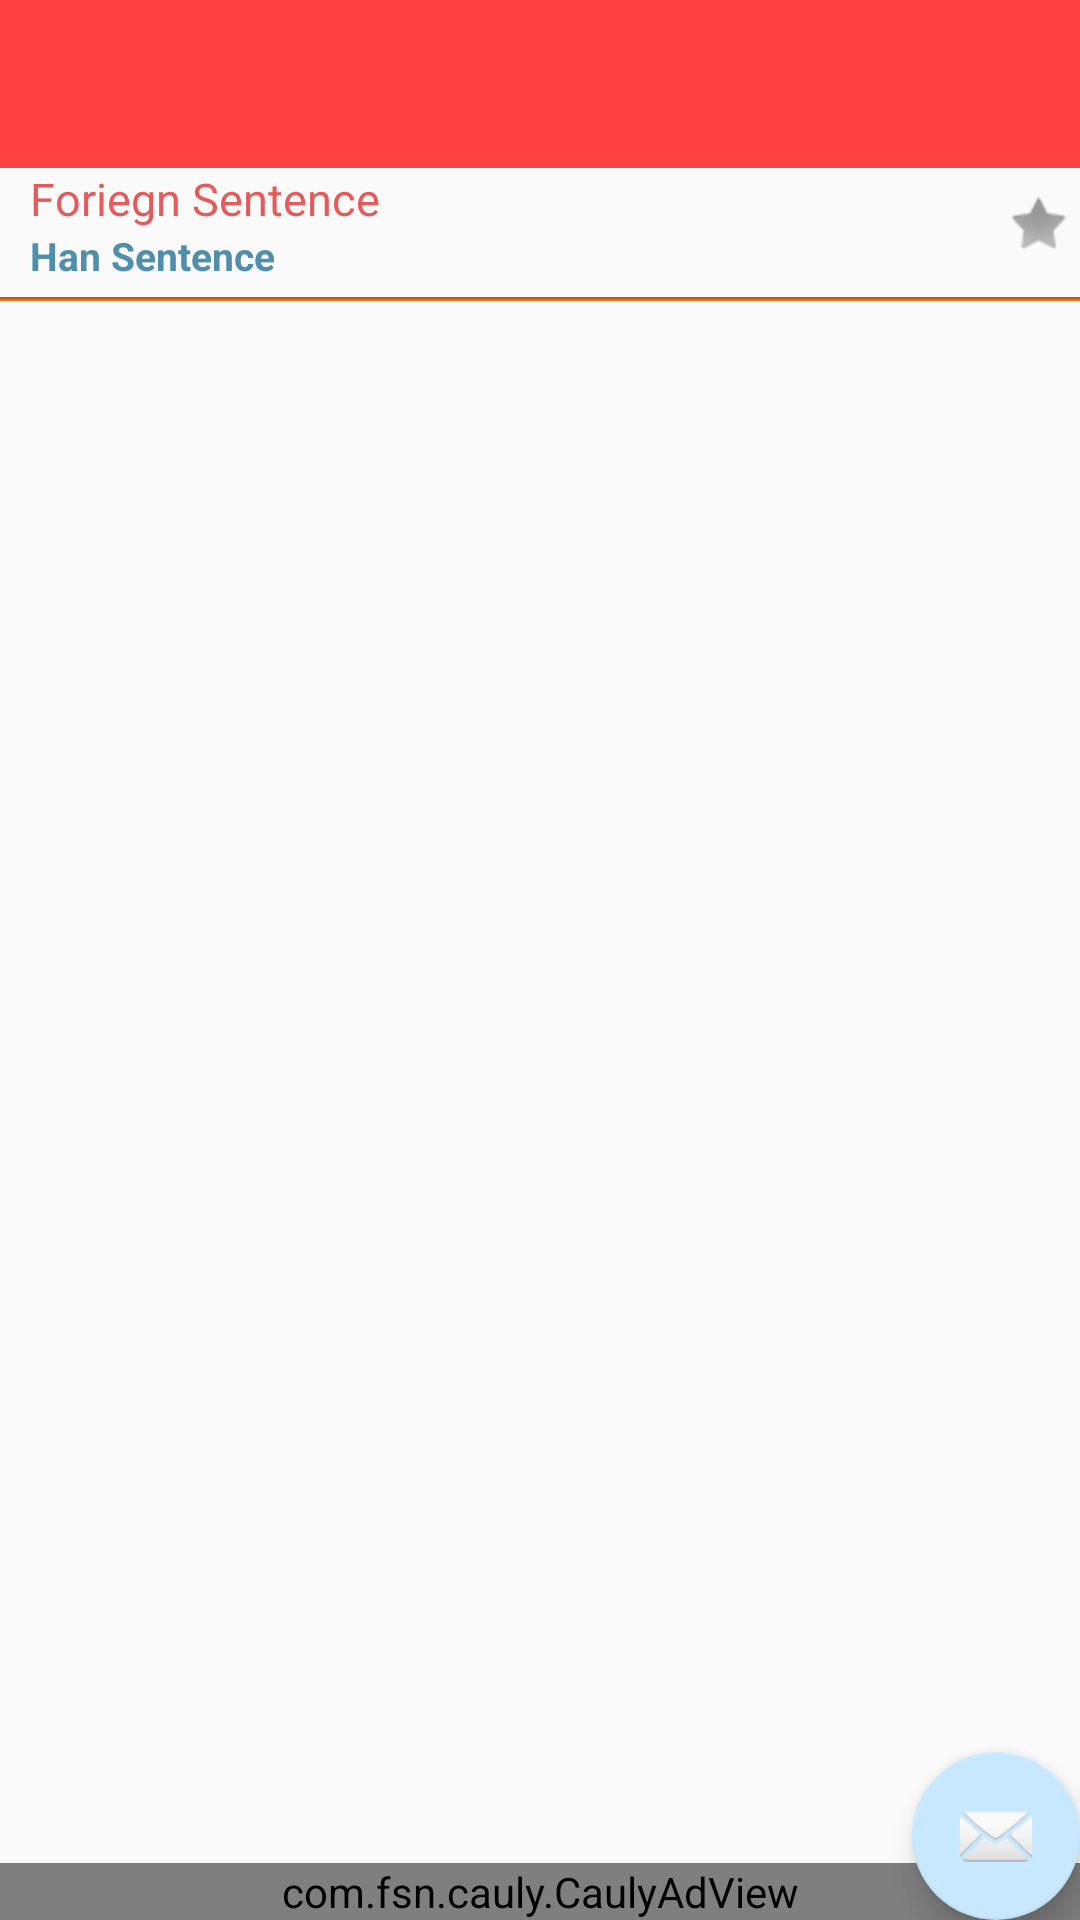

Icon bounding boxes for this 1080×1920 phone screenshot, format [x1,y1,x2,y2]:
email: [912,1752,1080,1920]
star off: [1012,197,1065,248]
